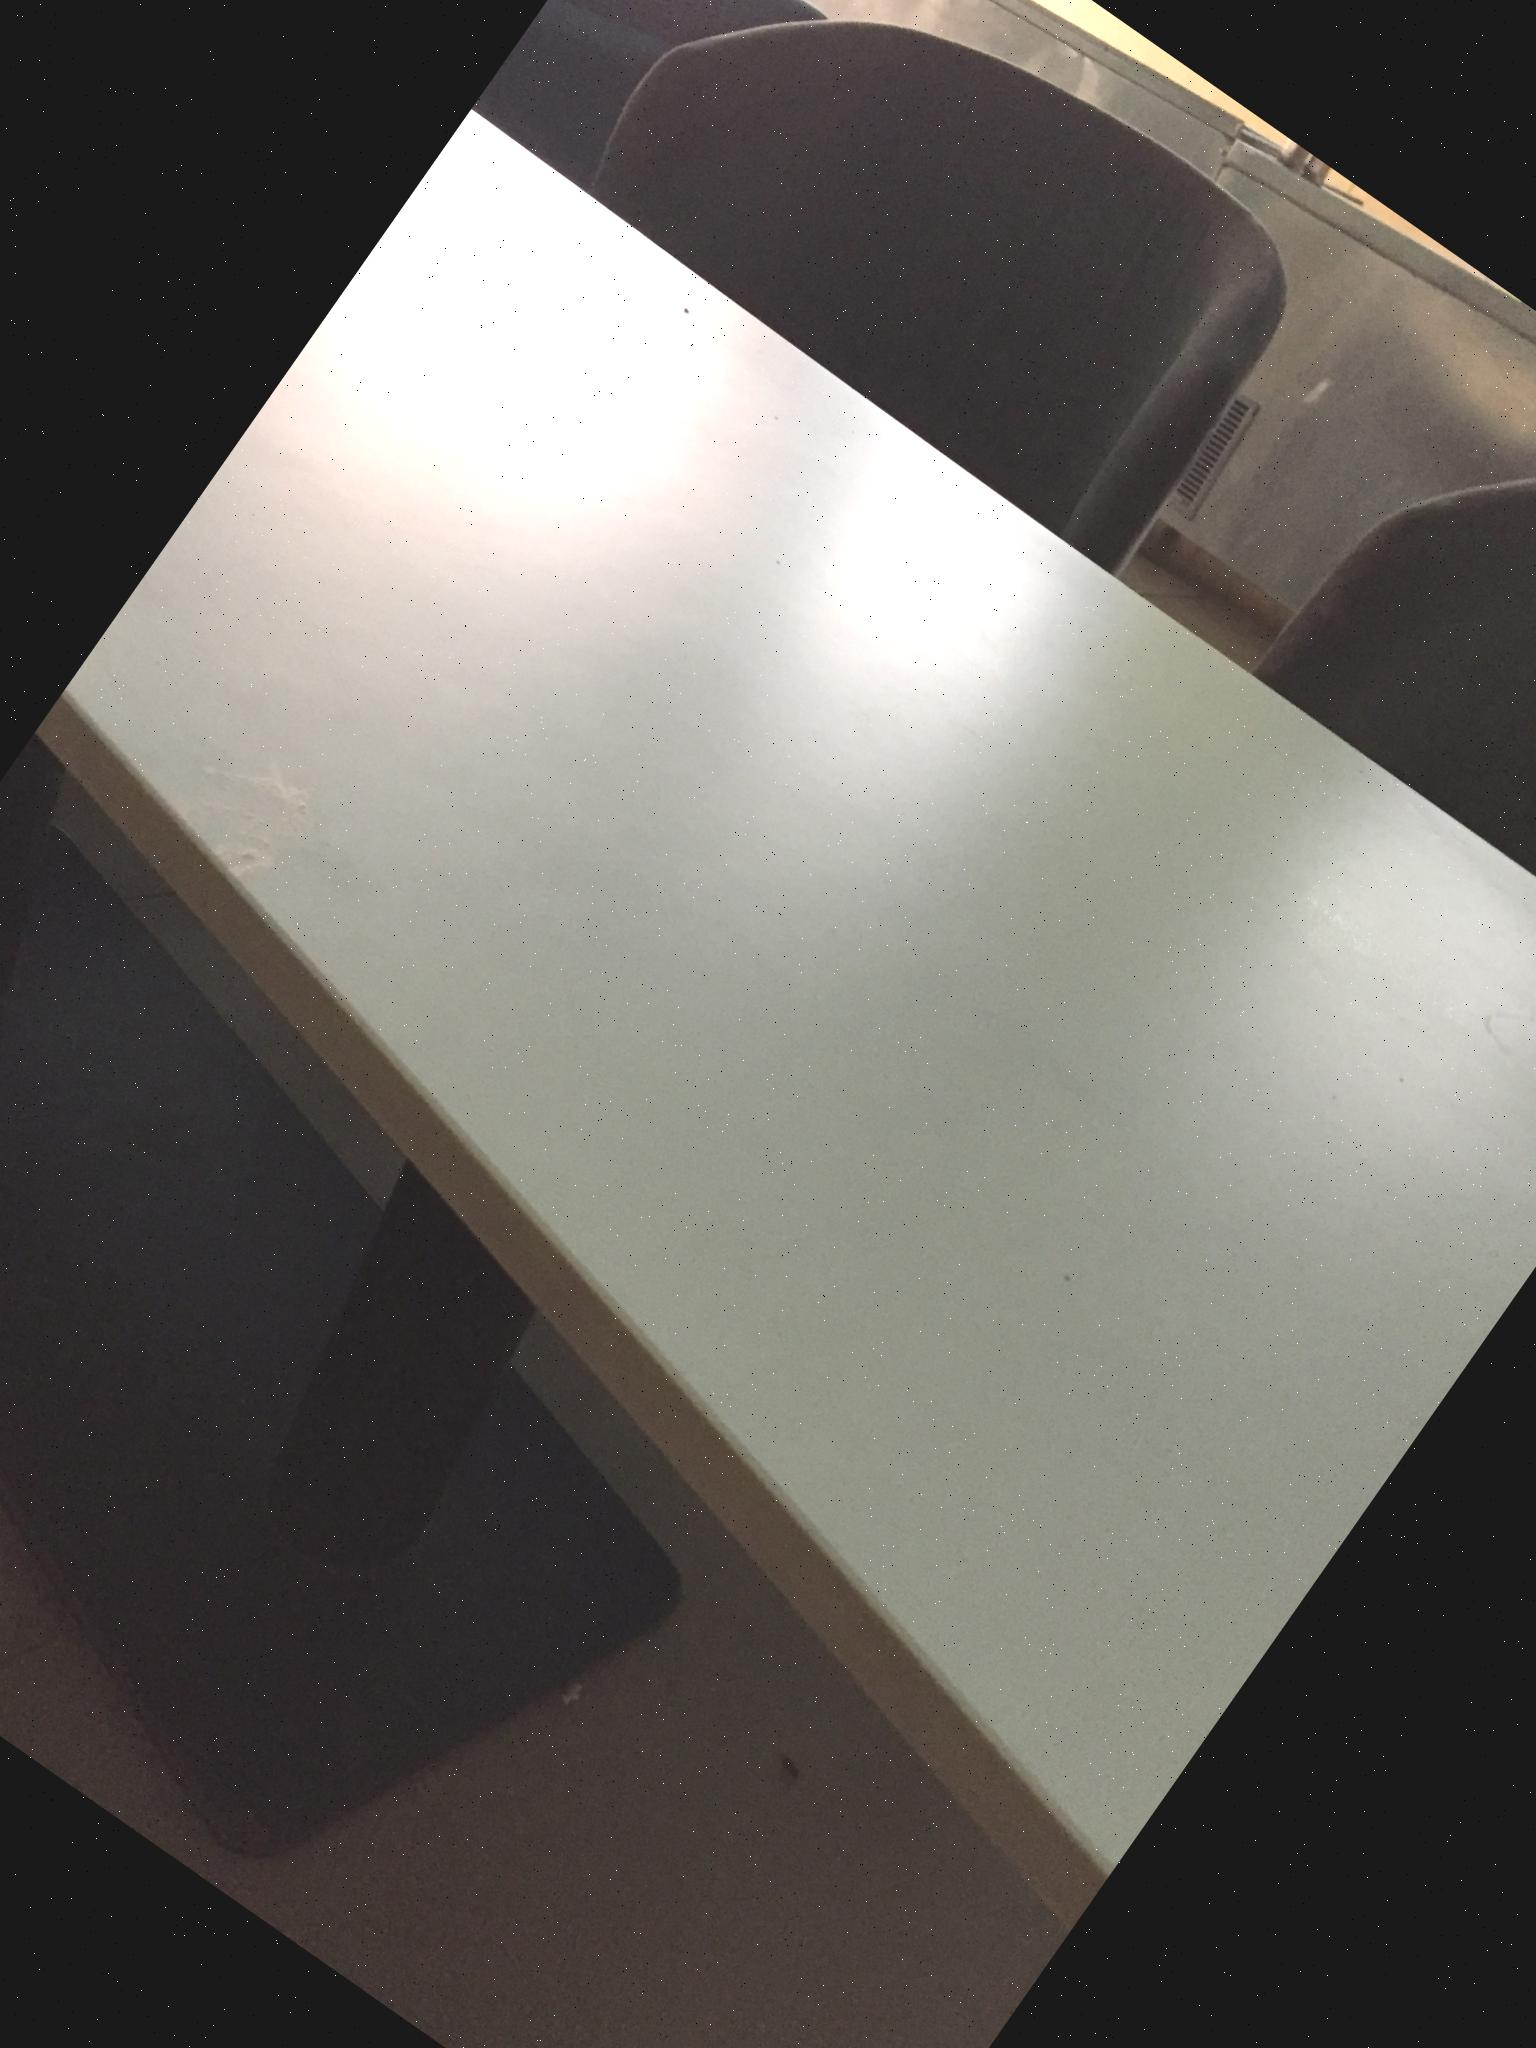chair: (561, 0, 1336, 577), (1247, 302, 1536, 1003), (470, 0, 829, 247)
